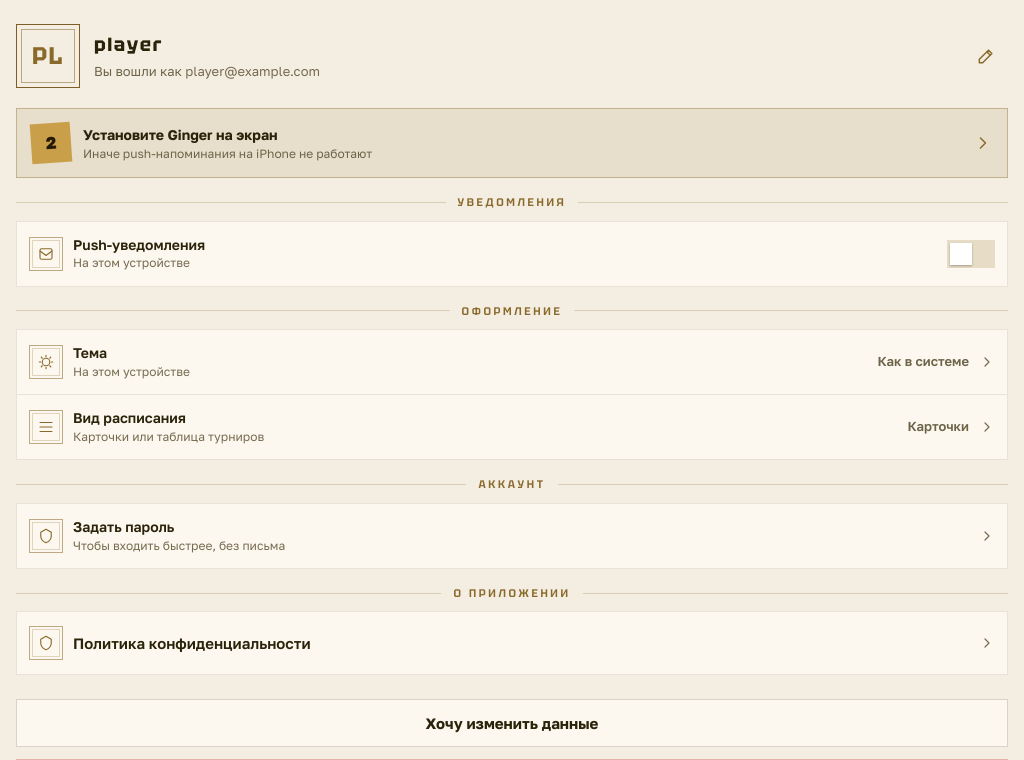
Test: ProfilePage › tells an iOS user to install the app instead of blaming permissions
The image size is (1024, 760).
Expected: the heading "player" is shown, x1=94 y1=32 x2=163 y2=57
Click the checkbox labelled "Push-уведомления" at (46, 254), box x1=29 y1=236 x2=995 y2=270
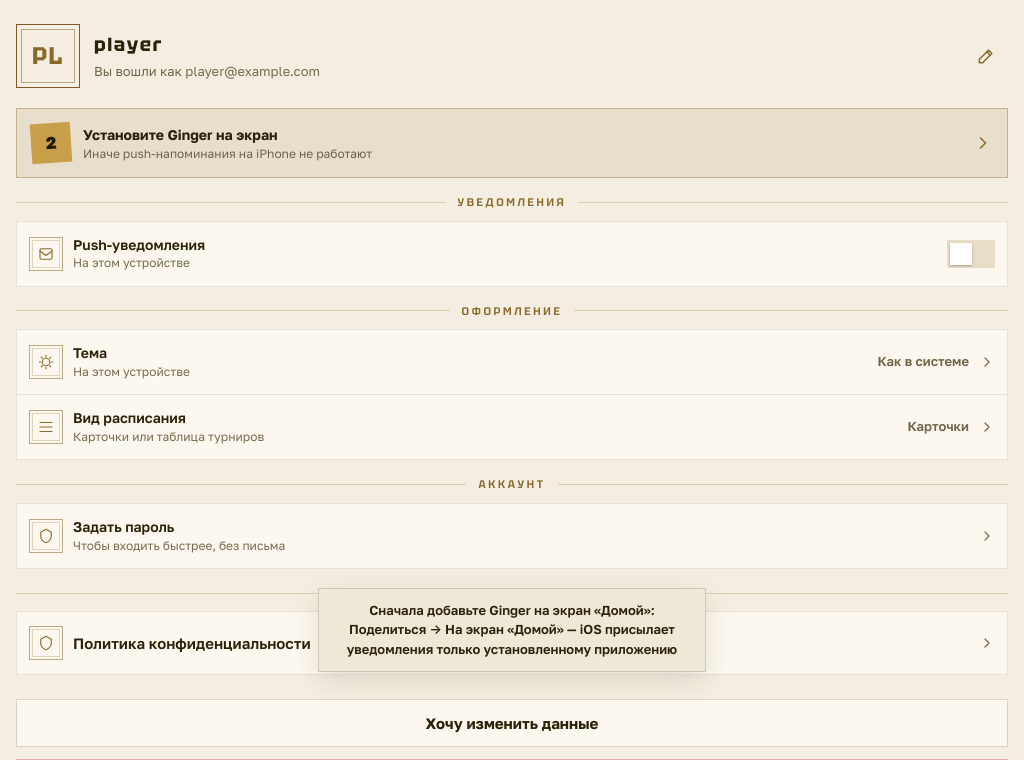
Result: the message shows "добавьте Ginger на экран" at x1=347 y1=602 x2=677 y2=656
